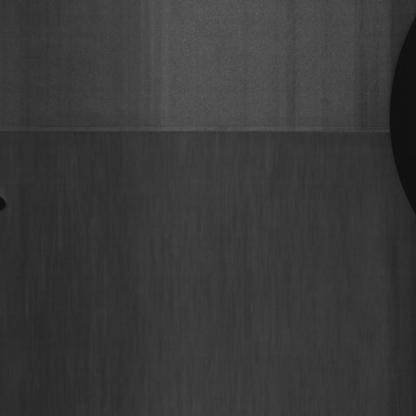crescent_gap: (369, 0, 416, 224)
welding_line: (2, 118, 396, 145)
